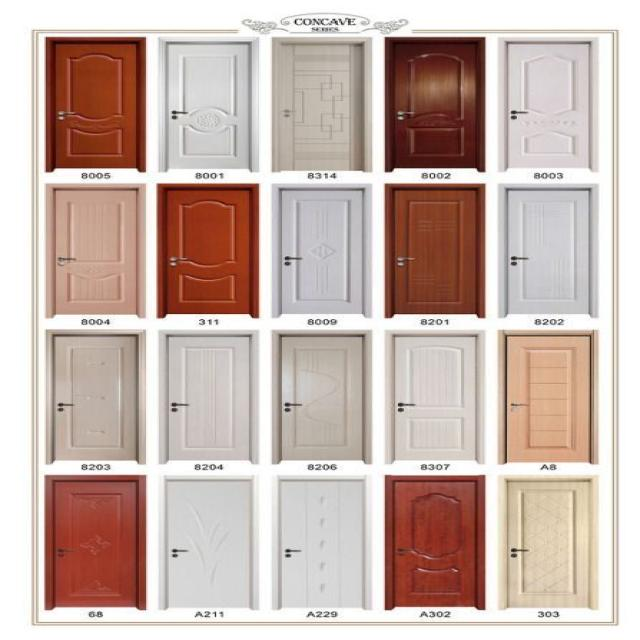door: (43, 474, 145, 610), (156, 184, 258, 318), (44, 36, 144, 171), (384, 36, 484, 170), (385, 476, 484, 608), (385, 184, 483, 316), (271, 38, 365, 172), (46, 186, 139, 317), (164, 476, 254, 609), (506, 476, 596, 609), (47, 332, 139, 462), (162, 40, 252, 171), (274, 186, 364, 316), (282, 480, 371, 609), (276, 333, 364, 462), (504, 333, 591, 462), (504, 40, 591, 169), (504, 187, 591, 315), (391, 334, 477, 462), (164, 334, 250, 462)
